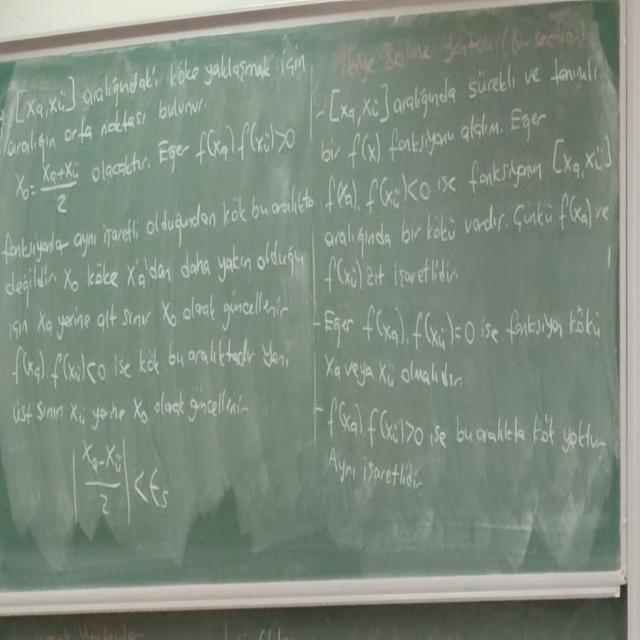math: (60, 415, 178, 549), (190, 105, 309, 188), (3, 152, 95, 238), (328, 393, 428, 457), (321, 162, 435, 217), (359, 303, 478, 353)
text: (1, 171, 318, 445), (3, 27, 310, 169), (315, 54, 602, 162), (330, 4, 604, 85), (318, 204, 612, 250), (427, 409, 611, 469), (90, 123, 193, 200), (323, 254, 463, 298)
